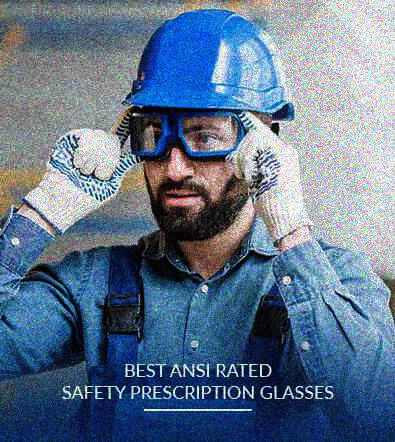helmet: (116, 6, 295, 238)
